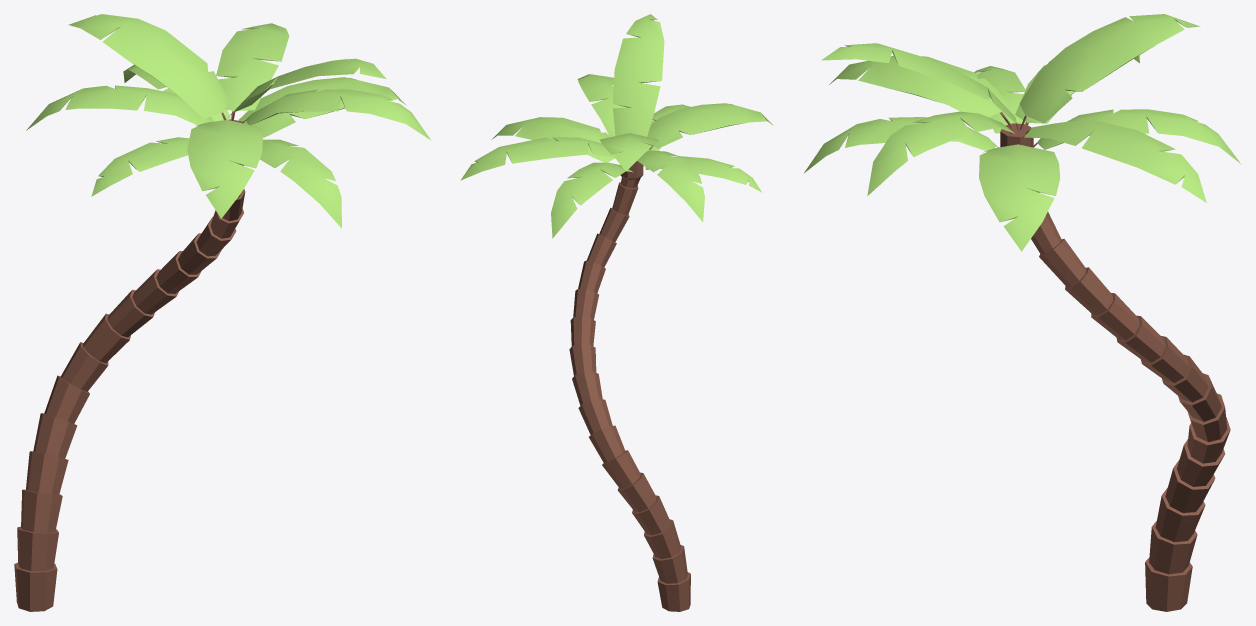
The model's file is palm.glb.
The picture shows the model from 3 angles, left to right: view 1: azimuth 30°, elevation 25°; view 2: azimuth 150°, elevation 25°; view 3: azimuth 270°, elevation 25°; orthographic projection. The views are drawn at different scales.
Parts seen in each view (by area): view 1: PalmTree_05_LOD1; view 2: PalmTree_05_LOD1; view 3: PalmTree_05_LOD1.
Part boxes in pixels (x1,y1,x2,y2): PalmTree_05_LOD1: [14, 14, 431, 611]; PalmTree_05_LOD1: [460, 14, 773, 611]; PalmTree_05_LOD1: [804, 14, 1241, 611].
Size of the model in its own units: 2.38 by 4.12 by 2.51.
